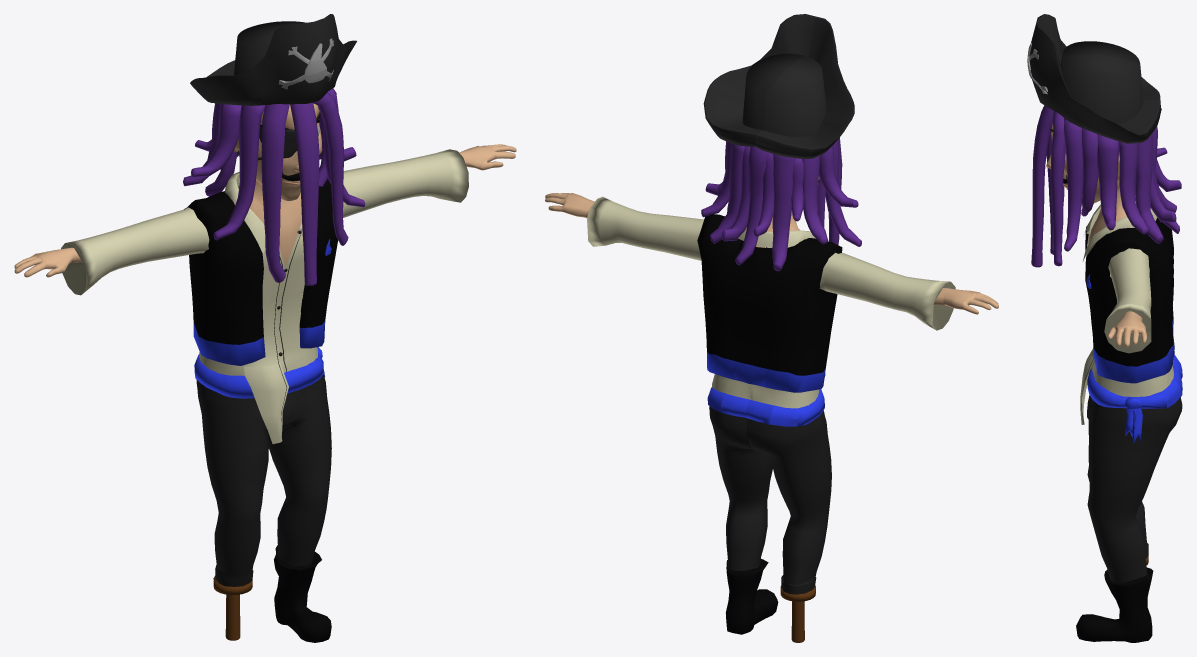
File: Pirata.fbx
3 renders of one model, left to right at view 1: azimuth 30°, elevation 25°; view 2: azimuth 150°, elevation 25°; view 3: azimuth 270°, elevation 25°, orthographic. The views are drawn at different scales.
Parts seen in each view (by area): view 1: pCylinder6; view 2: pCylinder6; view 3: pCylinder6.
Boxes of the visible parts, x1,y1,x2,y2 form: pCylinder6: [14, 14, 516, 642]; pCylinder6: [545, 14, 998, 642]; pCylinder6: [1027, 14, 1182, 642].
Size of the model in its own units: 158 by 195 by 45.62.
